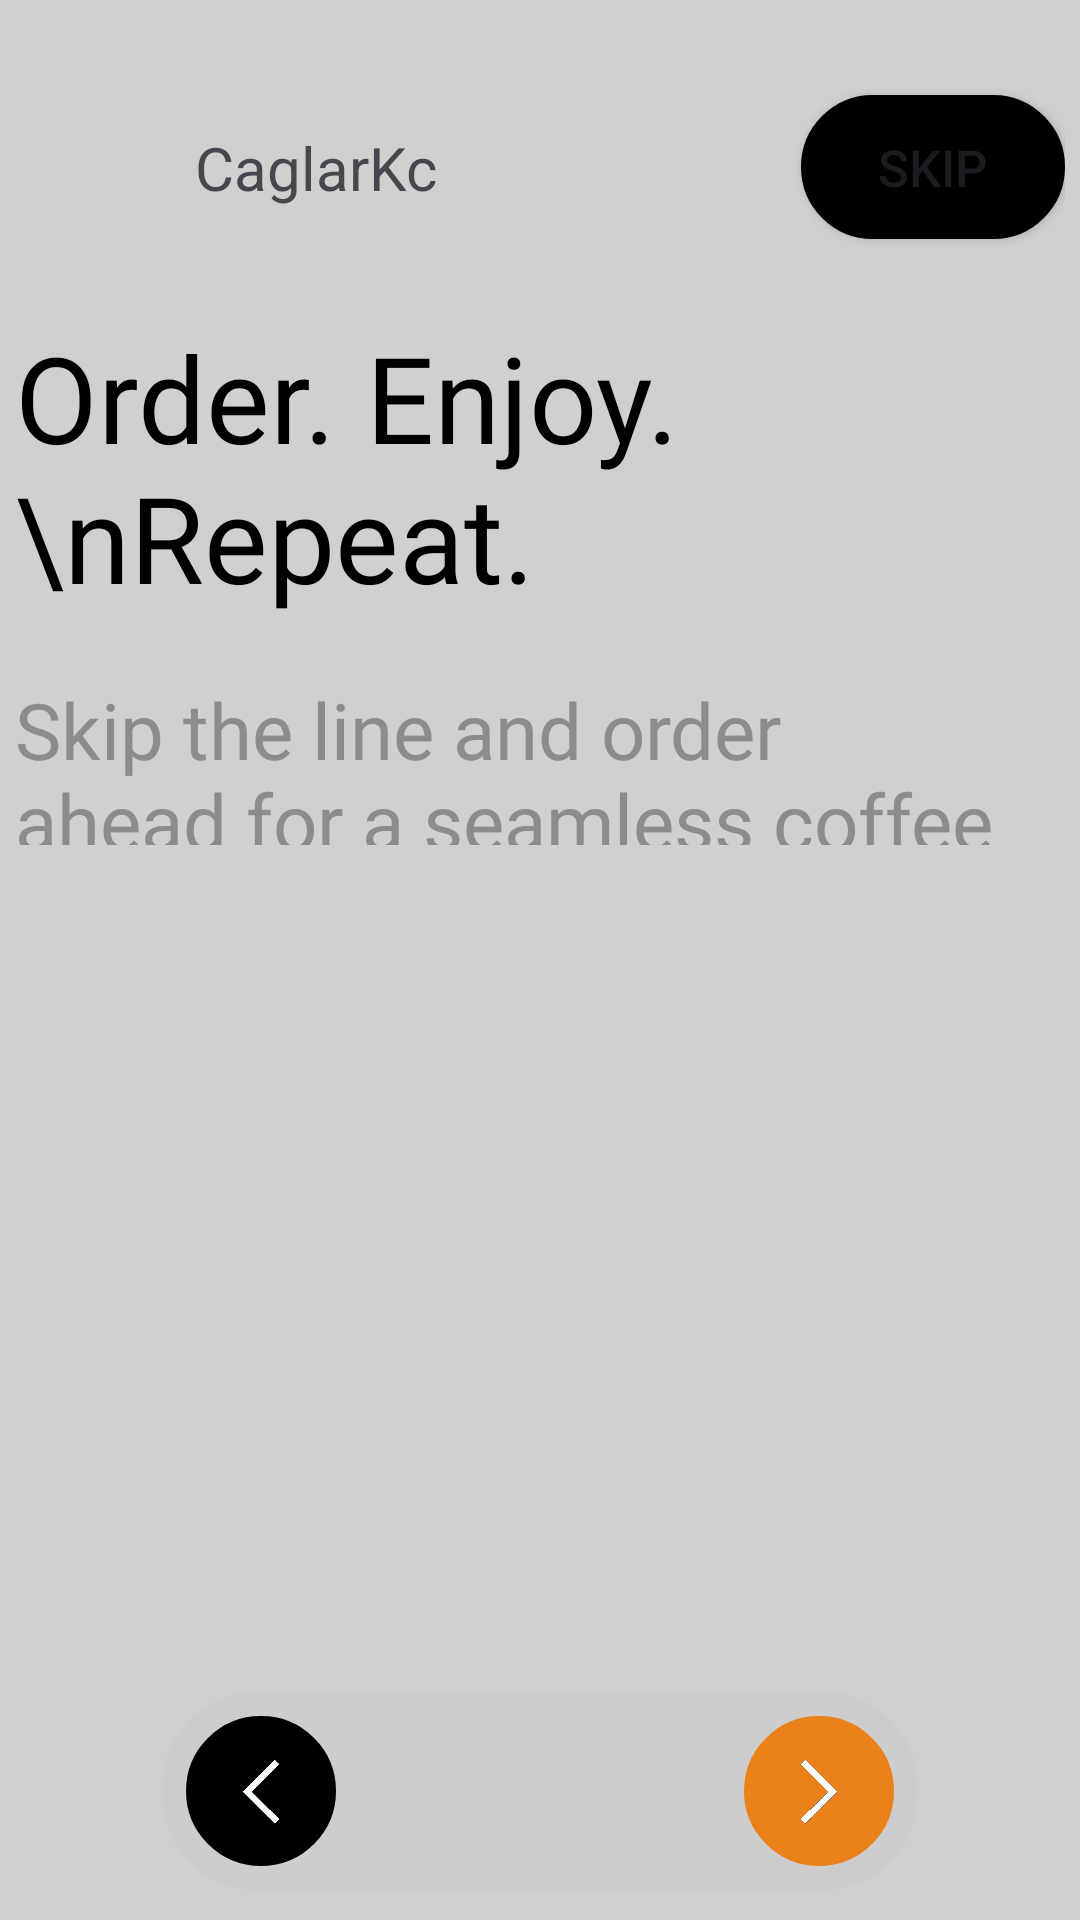

Icon bounding boxes for this 1080×1920 phone screenshot, format (x1, y1, x2, y2):
back left: (186, 1716, 336, 1866)
next right: (744, 1716, 894, 1866)
